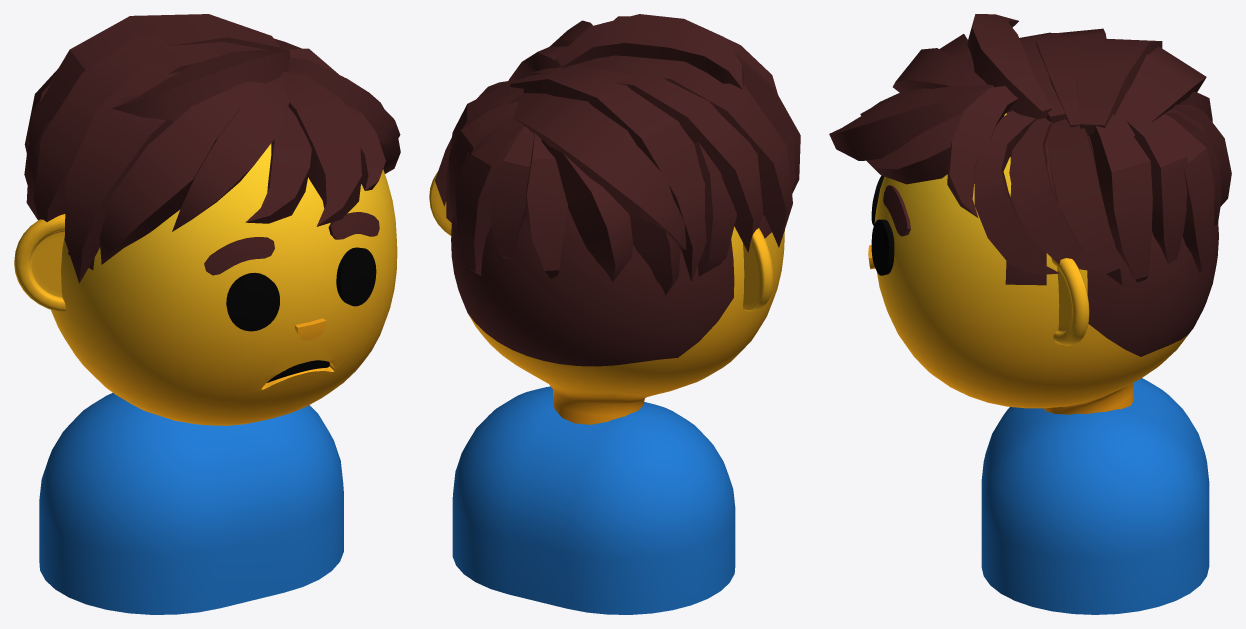
The model's file is person_frowning.glb.
3 renders of one model, left to right at view 1: azimuth 30°, elevation 25°; view 2: azimuth 150°, elevation 25°; view 3: azimuth 270°, elevation 25°, orthographic. The views are drawn at different scales.
Visible parts, largest first — view 1: Cube.041, Sphere.028, Roundcube.001, Circle.214, ears.028, Circle.216; view 2: Cube.041, Sphere.028, Roundcube.001, ears.028; view 3: Cube.041, Roundcube.001, Sphere.028, ears.028, Circle.214, Circle.216.
Part boxes in pixels (x1,y1,x2,y2): Cube.041: (24,14,400,283); Sphere.028: (39,393,343,614); Roundcube.001: (51,143,397,425); Circle.214: (226,247,376,331); ears.028: (14,214,65,312); Circle.216: (204,212,379,275); Cube.041: (435,14,800,295); Sphere.028: (452,386,735,614); Roundcube.001: (451,208,784,424); ears.028: (429,171,773,311); Cube.041: (829,14,1231,285); Roundcube.001: (874,112,1218,414); Sphere.028: (981,378,1209,614); ears.028: (1051,257,1089,345); Circle.214: (871,175,894,275); Circle.216: (883,185,910,236).
Size of the model in its own units: 1.76 by 2.48 by 1.77.
Materials: 2 (2 with a texture image).
